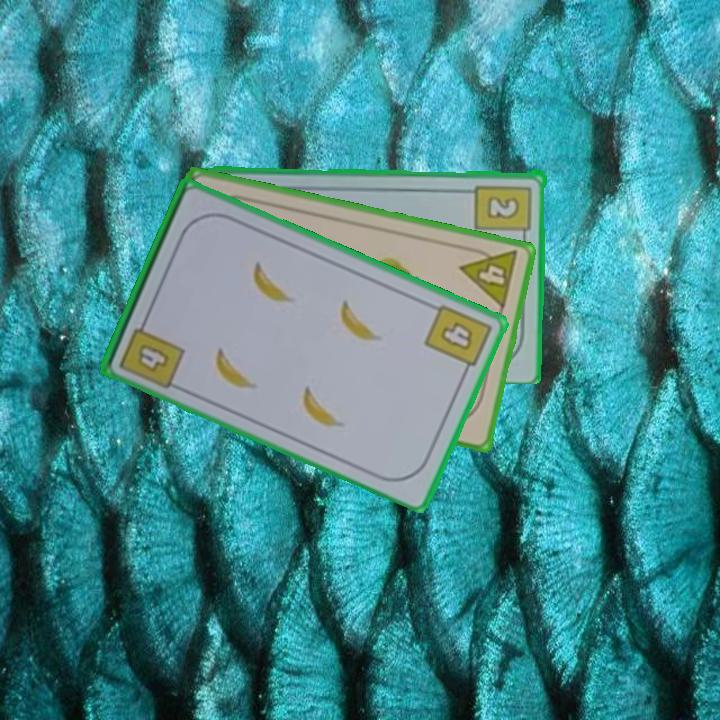2b: (472, 181, 534, 243)
4b: (421, 300, 495, 379), (116, 312, 188, 392)
4p: (456, 242, 522, 312)
